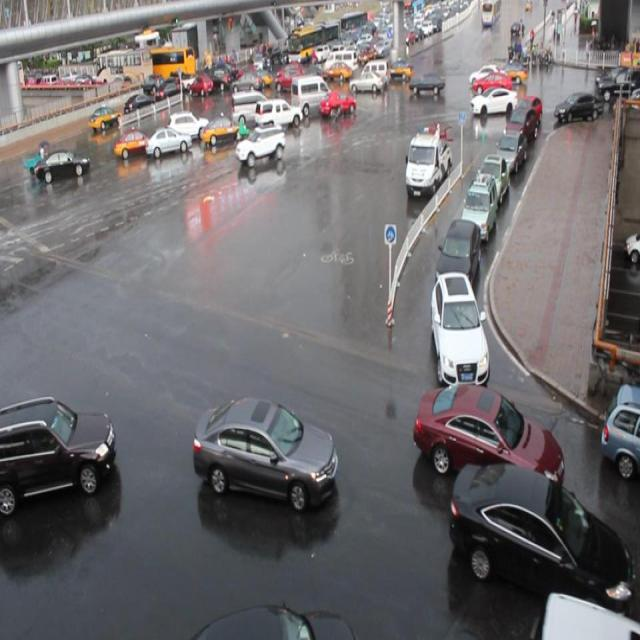bus: (404, 127, 451, 200)
car: (449, 459, 632, 609), (413, 382, 565, 504), (194, 393, 338, 508), (1, 395, 117, 512), (430, 268, 488, 384), (532, 589, 640, 640), (598, 381, 640, 471), (436, 213, 481, 292), (460, 173, 498, 242), (473, 150, 509, 208), (236, 123, 284, 165), (38, 145, 91, 177), (202, 112, 247, 146), (255, 98, 302, 130), (495, 124, 527, 170), (507, 106, 539, 150), (470, 88, 517, 117), (168, 110, 211, 139), (146, 126, 192, 153), (517, 94, 543, 132), (115, 128, 156, 152), (321, 90, 358, 115)
truck: (292, 77, 333, 113), (232, 90, 274, 122)
